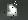person: (8, 5, 18, 17)
